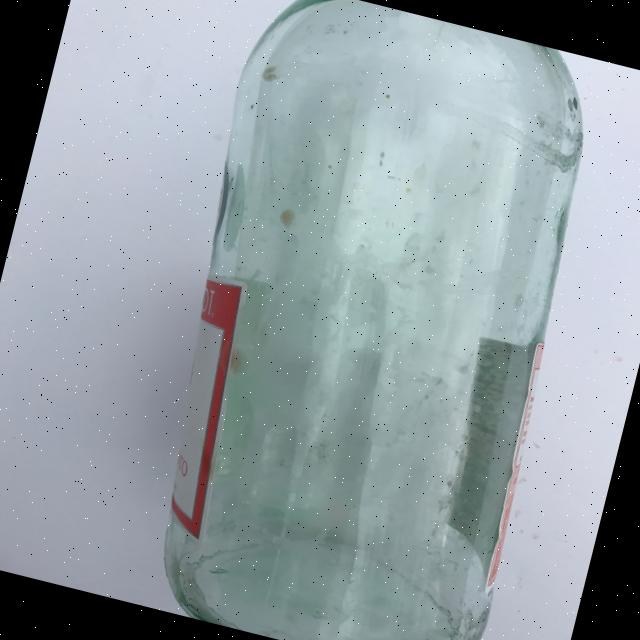glass: (109, 0, 626, 640)
